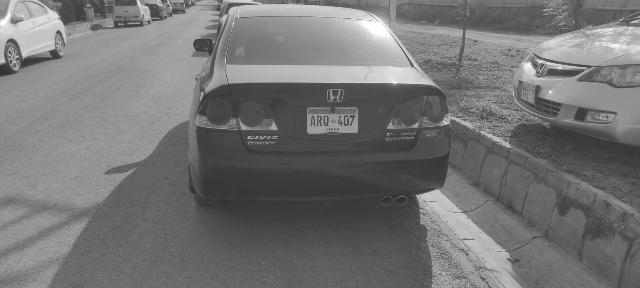Number: (309, 113, 357, 127)
